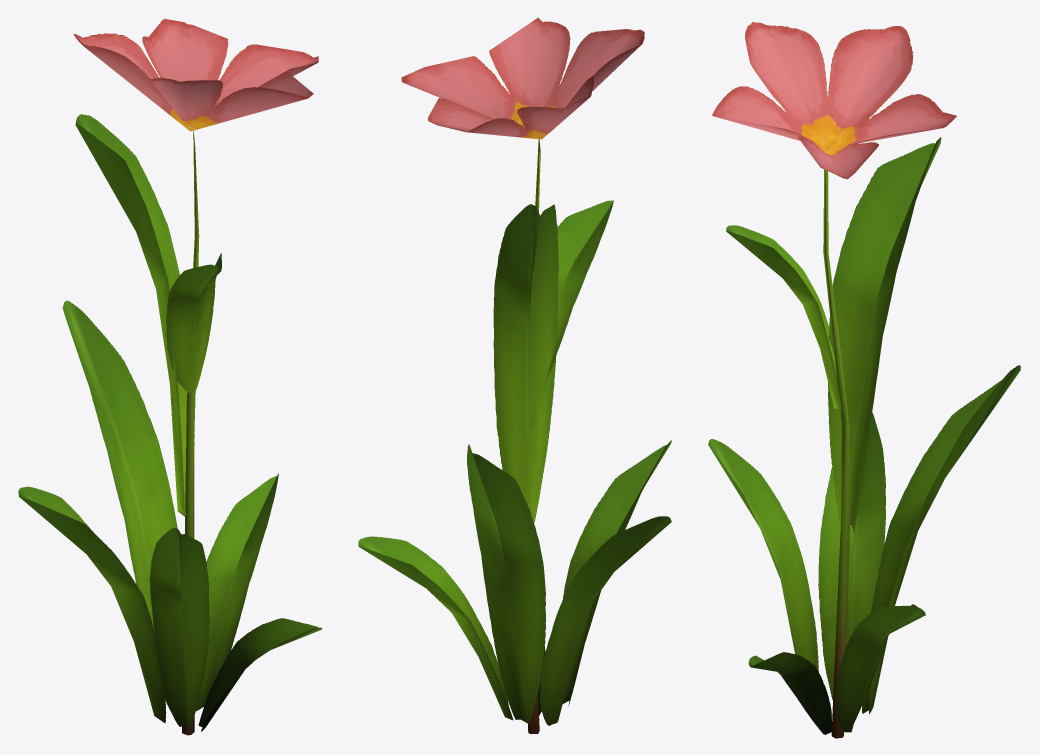
File: Flower_3_Single.gltf
3 renders of one model, left to right at view 1: azimuth 30°, elevation 25°; view 2: azimuth 150°, elevation 25°; view 3: azimuth 270°, elevation 25°, orthographic. The views are drawn at different scales.
Visible parts, largest first — view 1: Flower_3_Single; view 2: Flower_3_Single; view 3: Flower_3_Single.
Part boxes in pixels (x1=…): Flower_3_Single: x1=18, y1=19, x2=322, y2=735; Flower_3_Single: x1=358, y1=17, x2=671, y2=733; Flower_3_Single: x1=708, y1=22, x2=1020, y2=738.
Size of the model in its own units: 0.9066 by 2.07 by 0.8775.
2 materials, 2 textured.
